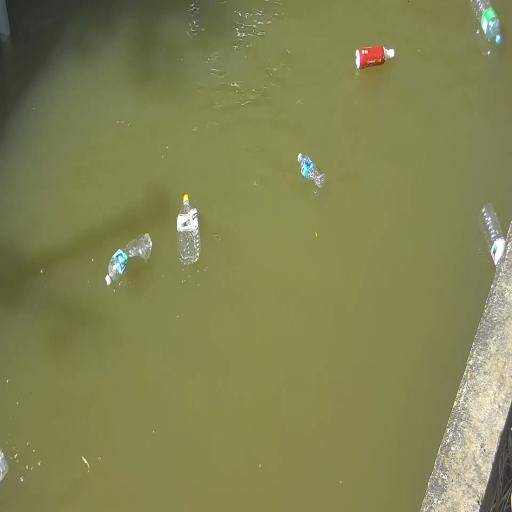plastic: (106, 234, 152, 285), (176, 191, 201, 266), (480, 203, 506, 268), (298, 153, 325, 188), (356, 46, 395, 70), (0, 448, 8, 481)
